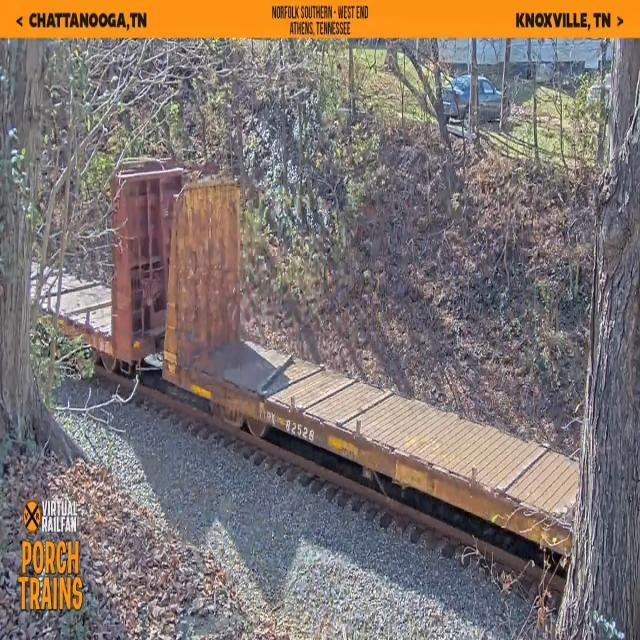flatcar_bulkhead: (162, 162, 574, 571), (31, 159, 170, 371)
